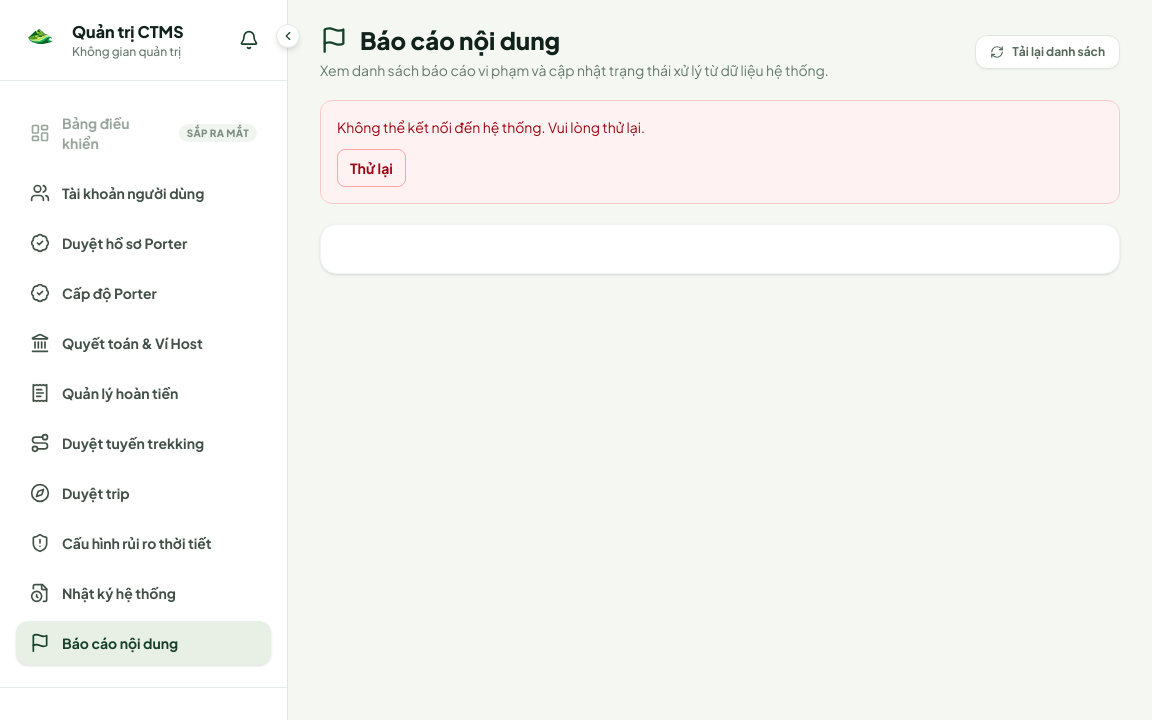
Test: Content Reports Admin UI › retries queue network failure
The width and height of the screenshot is (1152, 720).
Expected: the message shows "Không thể kết nối", [337,118,645,136]
Click the button "Thử lại": point(371, 168) [337,149,406,187]
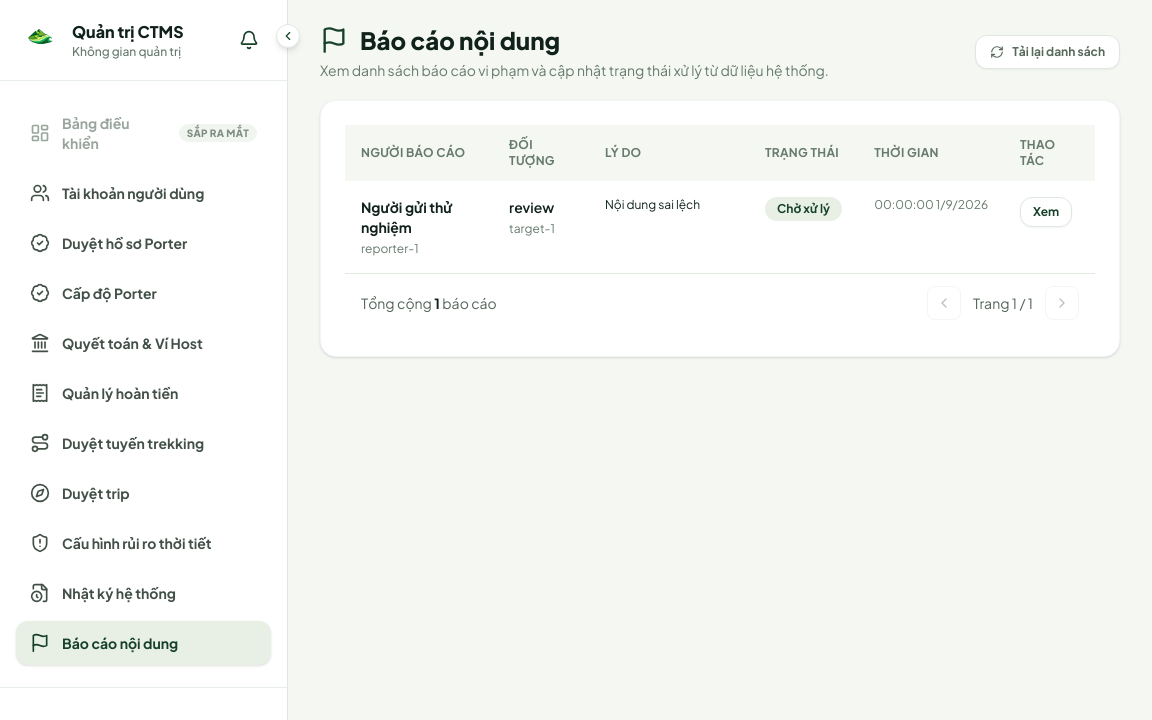
Result: the text "Nội dung sai lệch" is shown at [605,197,700,212]
